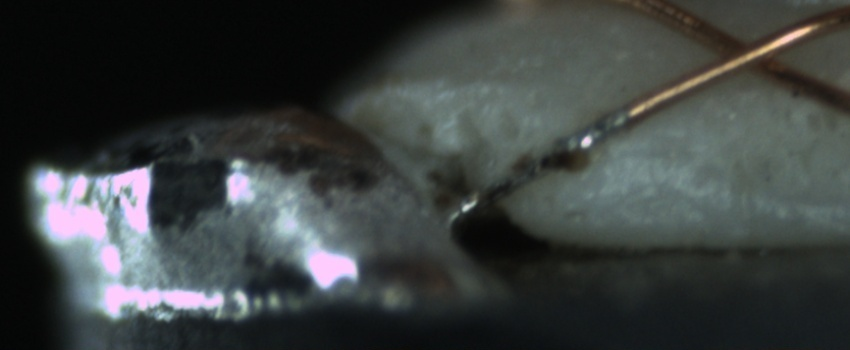CL: (692, 15, 803, 86)
DL: (584, 133, 695, 176)
TS: (447, 108, 631, 225)
